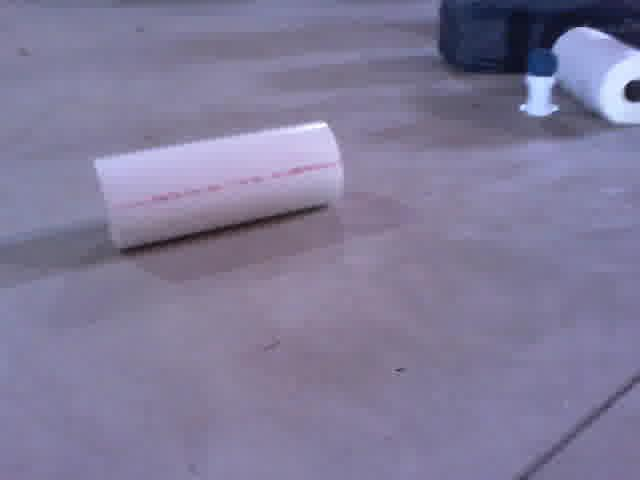coral: (88, 106, 353, 255)
